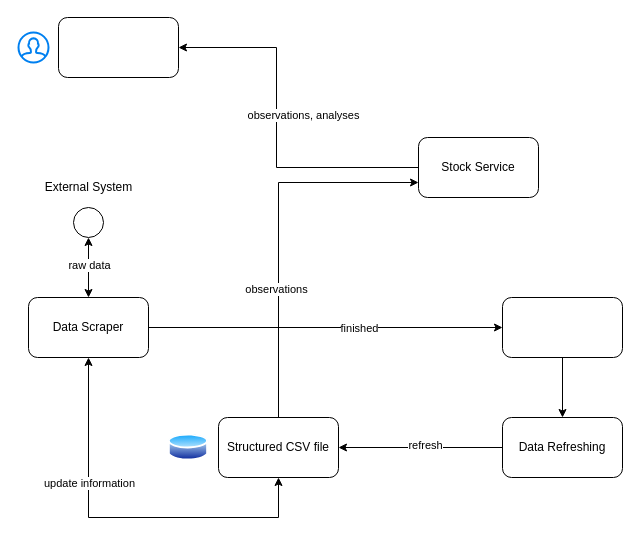
The diagram is 640 pixels wide and 544 high, and some of its shapes have lost their labels. The box of each missing label's shape, as (x1, y1, x2, y2) in pixels:
Data Fetcher: (502, 296, 622, 358)
Web App UI: (58, 16, 178, 78)
